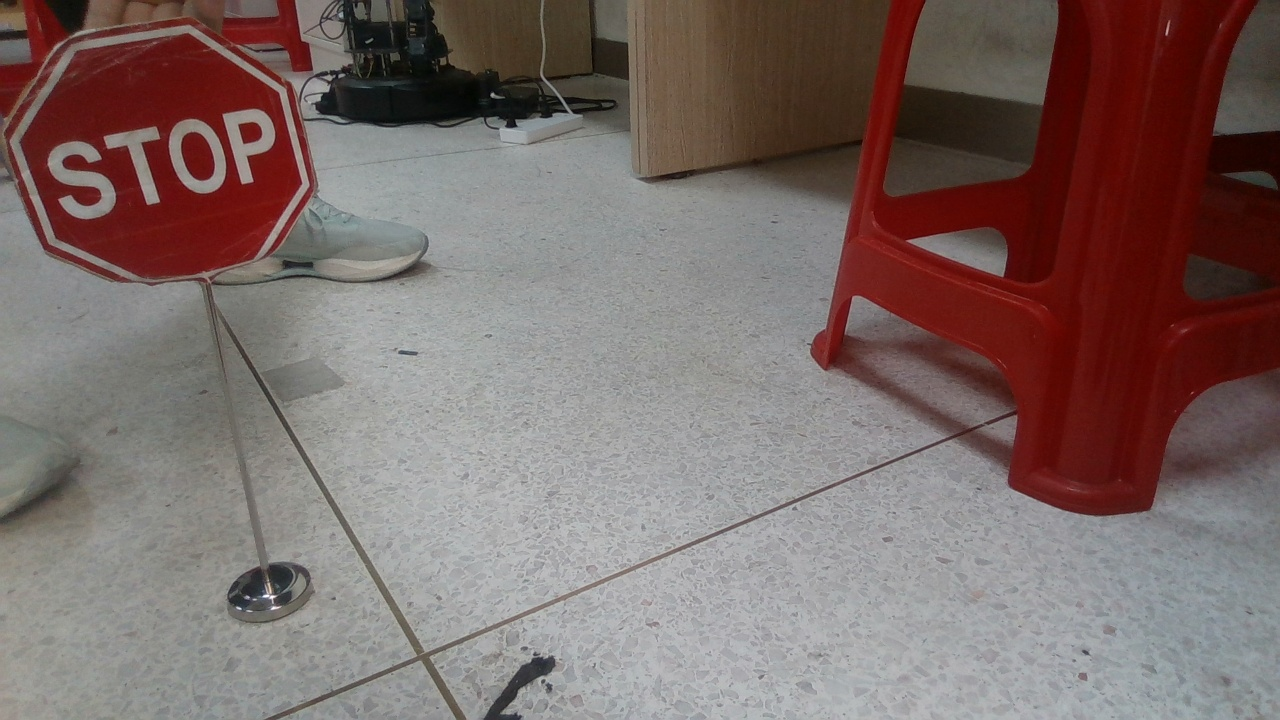Stop sign: (0, 16, 326, 283)
